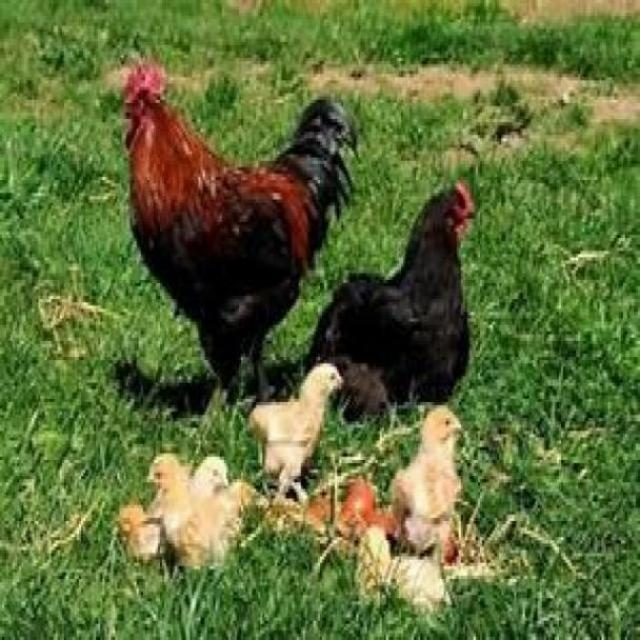Chicken: (124, 61, 358, 396), (305, 180, 478, 421), (145, 454, 271, 570), (250, 360, 344, 495), (393, 405, 465, 553), (116, 502, 167, 563), (192, 451, 230, 496)
